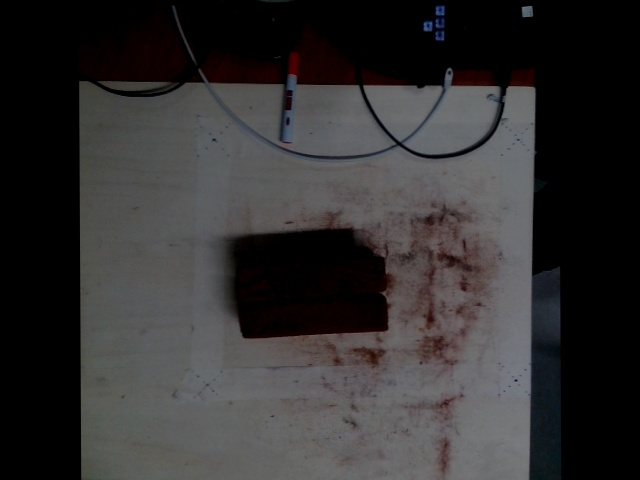brick-side: (242, 294, 386, 340), (239, 256, 384, 301)
